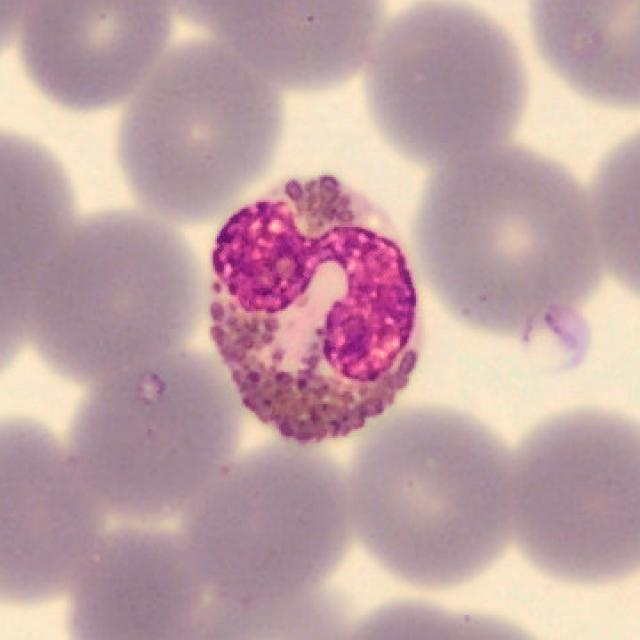Eosinofilo: (210, 179, 423, 440)
